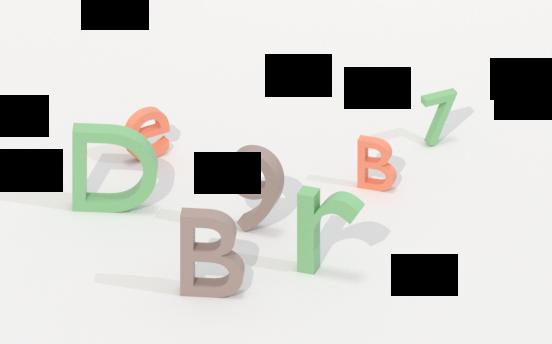7: (419, 86, 461, 149)
9: (224, 142, 287, 233)
R: (293, 182, 365, 277)
b: (176, 202, 250, 305), (353, 132, 401, 196)
d: (68, 114, 161, 219)
e: (120, 104, 172, 164)
